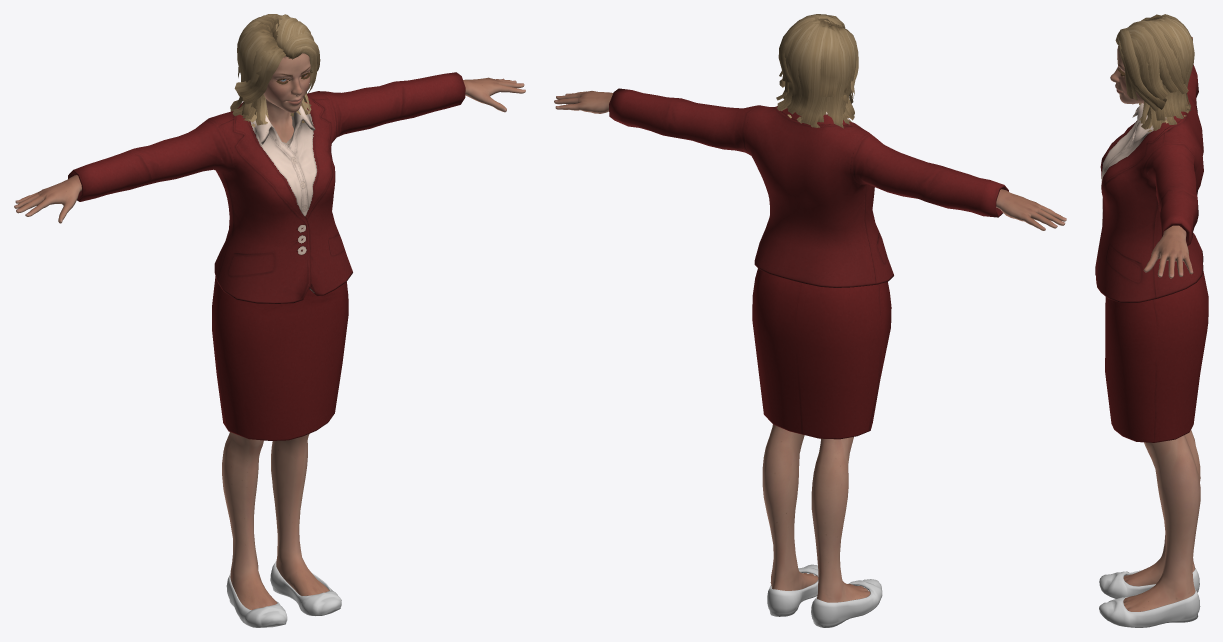
The model's file is dost1.obj.
3 views of the same model, side by side, from view 1: azimuth 30°, elevation 25°; view 2: azimuth 150°, elevation 25°; view 3: azimuth 270°, elevation 25° (orthographic).
Parts seen in each view (by area): view 1: Tops, Bottoms, Body, Hair, Shoes; view 2: Tops, Bottoms, Body, Hair, Shoes; view 3: Tops, Bottoms, Body, Hair, Shoes.
Part boxes in pixels (x1,y1,x2,y2): Tops: (68, 72, 465, 303); Bottoms: (212, 276, 348, 440); Body: (14, 53, 525, 609); Hair: (230, 14, 320, 127); Shoes: (226, 560, 341, 627); Tops: (609, 88, 1008, 287); Bottoms: (752, 268, 891, 439); Body: (554, 91, 1066, 602); Hair: (776, 14, 858, 128); Shoes: (767, 564, 882, 627); Tops: (1095, 65, 1203, 302); Bottoms: (1105, 270, 1208, 442); Body: (1110, 36, 1200, 611); Hair: (1115, 14, 1194, 131); Shoes: (1099, 568, 1200, 627).
Bounding box in the file's own units: 163 × 180 × 31.42.
